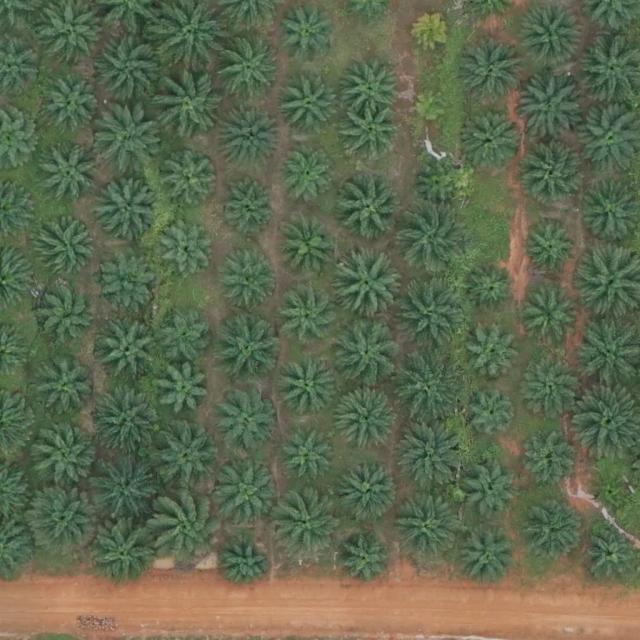Healthy: (150, 492, 228, 571), (334, 172, 405, 243), (457, 34, 527, 105), (399, 280, 469, 351), (391, 493, 461, 564), (152, 69, 222, 140), (150, 422, 220, 493), (94, 34, 164, 105), (93, 108, 163, 179), (87, 520, 158, 590), (31, 487, 101, 558), (518, 75, 588, 145), (401, 204, 471, 274), (393, 354, 463, 424), (398, 424, 468, 494), (330, 252, 400, 322), (332, 319, 402, 389), (276, 490, 346, 560), (90, 390, 160, 460), (90, 453, 160, 523), (279, 288, 342, 351), (219, 38, 282, 101), (217, 246, 280, 309), (97, 180, 160, 243), (519, 4, 581, 67), (527, 144, 589, 207), (523, 501, 585, 564), (465, 107, 527, 170), (457, 528, 519, 591), (340, 57, 402, 120), (339, 460, 401, 523), (274, 3, 336, 66), (278, 75, 340, 138), (278, 215, 340, 278), (277, 358, 339, 421), (217, 109, 279, 172), (217, 320, 279, 383), (215, 388, 277, 451), (160, 146, 222, 209), (100, 323, 162, 386), (38, 144, 100, 207), (33, 219, 95, 282), (36, 281, 98, 344), (34, 426, 96, 489), (338, 387, 400, 449), (218, 465, 280, 527), (95, 250, 157, 312), (584, 526, 639, 582), (280, 151, 335, 207), (284, 429, 339, 485), (524, 223, 579, 278), (524, 360, 579, 415), (522, 433, 577, 488), (463, 265, 518, 320), (467, 329, 522, 384), (464, 388, 519, 443), (464, 461, 519, 516), (413, 160, 468, 215), (346, 107, 401, 162), (339, 537, 394, 592), (221, 179, 276, 234), (218, 537, 273, 592), (158, 221, 213, 276), (158, 309, 213, 364), (45, 78, 100, 133), (38, 361, 93, 416), (527, 295, 581, 350), (157, 364, 211, 419)
Small: (594, 475, 634, 514)
Yellow: (409, 8, 456, 55), (412, 88, 451, 128)
